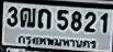letters: (19, 7, 37, 30), (37, 8, 52, 32), (56, 8, 70, 31), (70, 10, 83, 33), (84, 11, 97, 33), (98, 12, 110, 35), (7, 6, 19, 28)
province: (18, 35, 97, 50)
